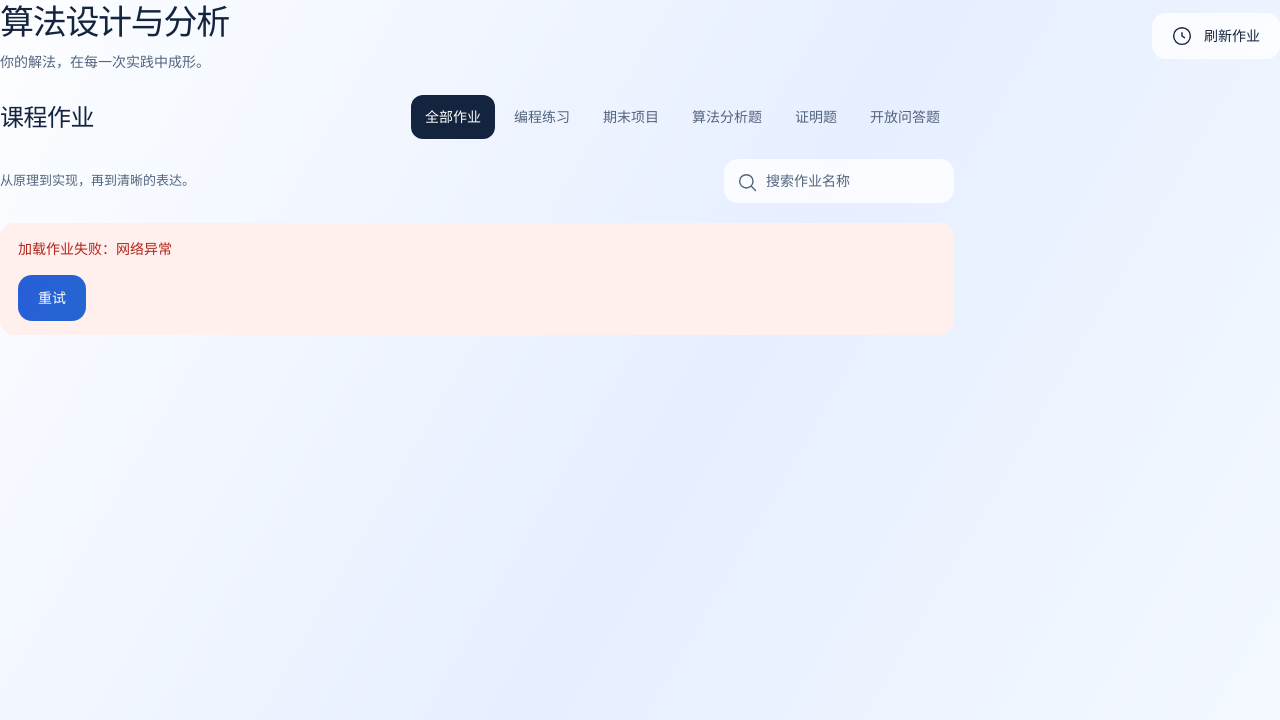
Test: 错误可重试，空列表提示联系教师确认课程安排
Check: the message "加载作业失败：网络异常 重试" is shown, box [0,223,954,335]
Click the button with class "retry-button": (52, 298) [18,275,86,321]
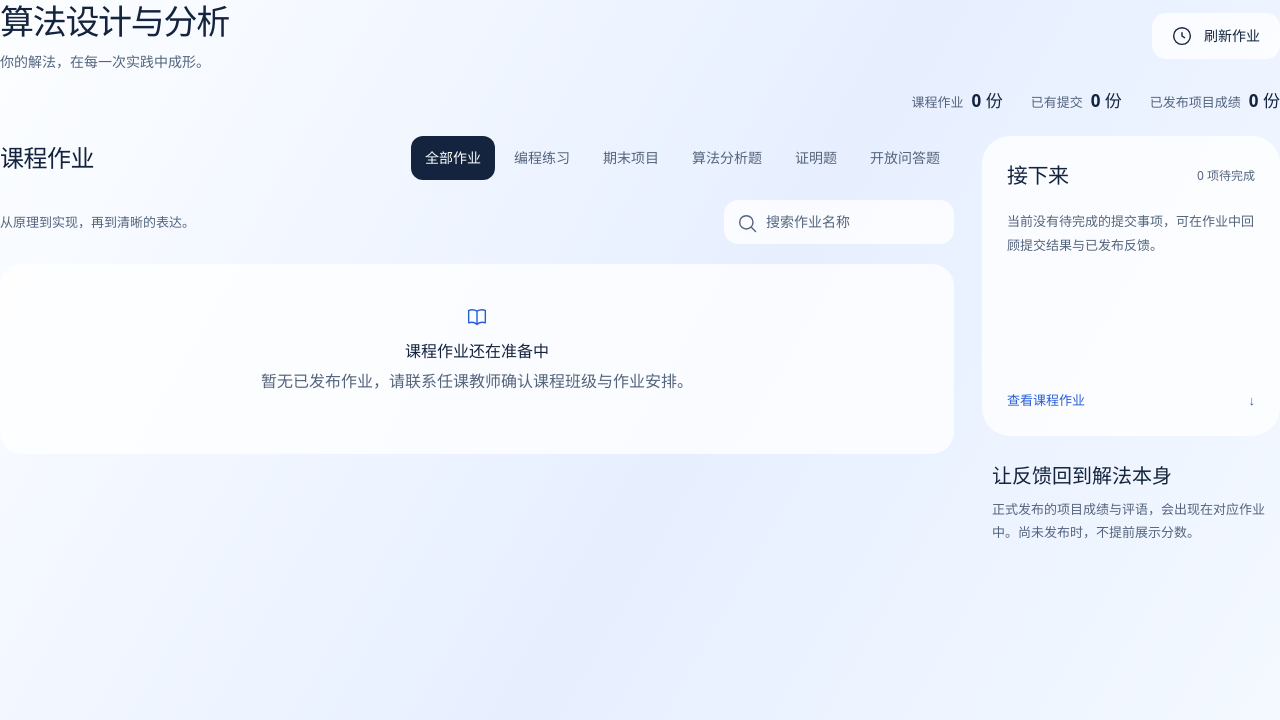
Check: the text "请联系任课教师确认课程班级与作业安排" is shown, box [261,370,693,392]
